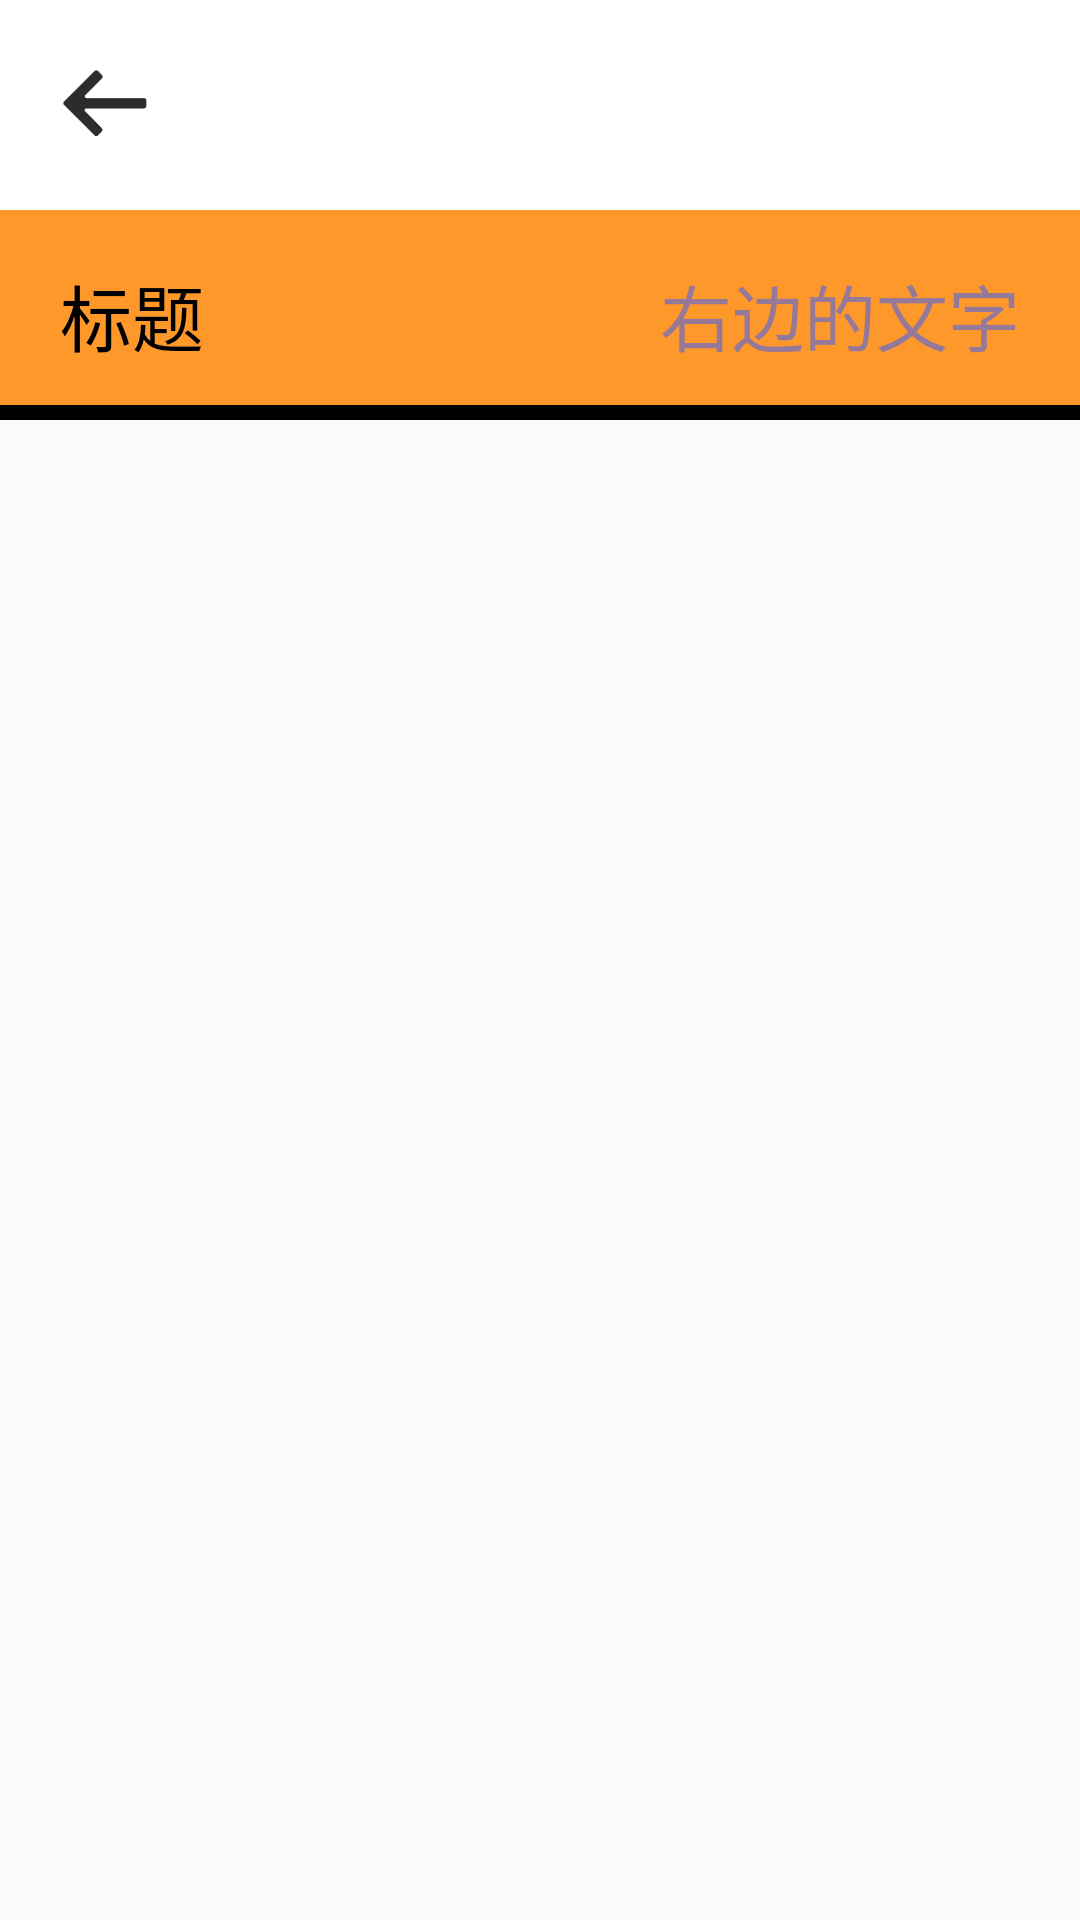

Point at icon controls on the screen. Image size 1080px x 1920px, points as (x=x, y=y).
back: (x=105, y=103)
